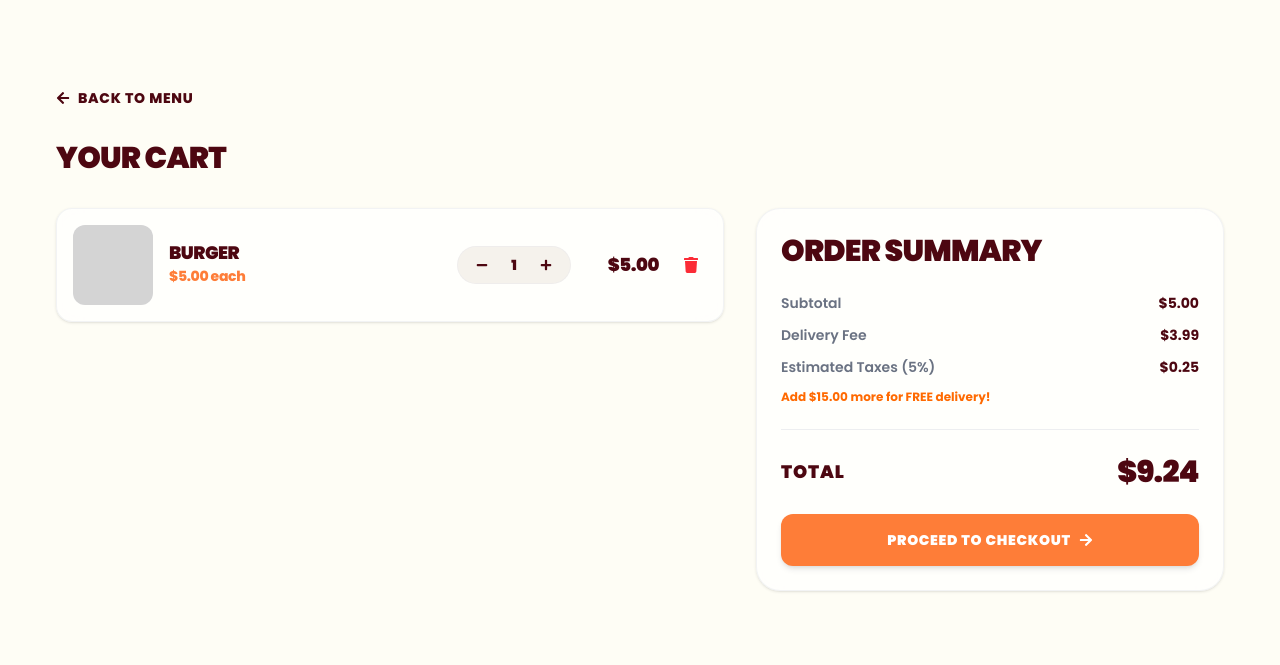
Test: CartPage UI Component › shows error if phone number is not exactly 10 digits
Click the button "Proceed to Checkout" at x=990, y=540, box [781,514,1199,566]
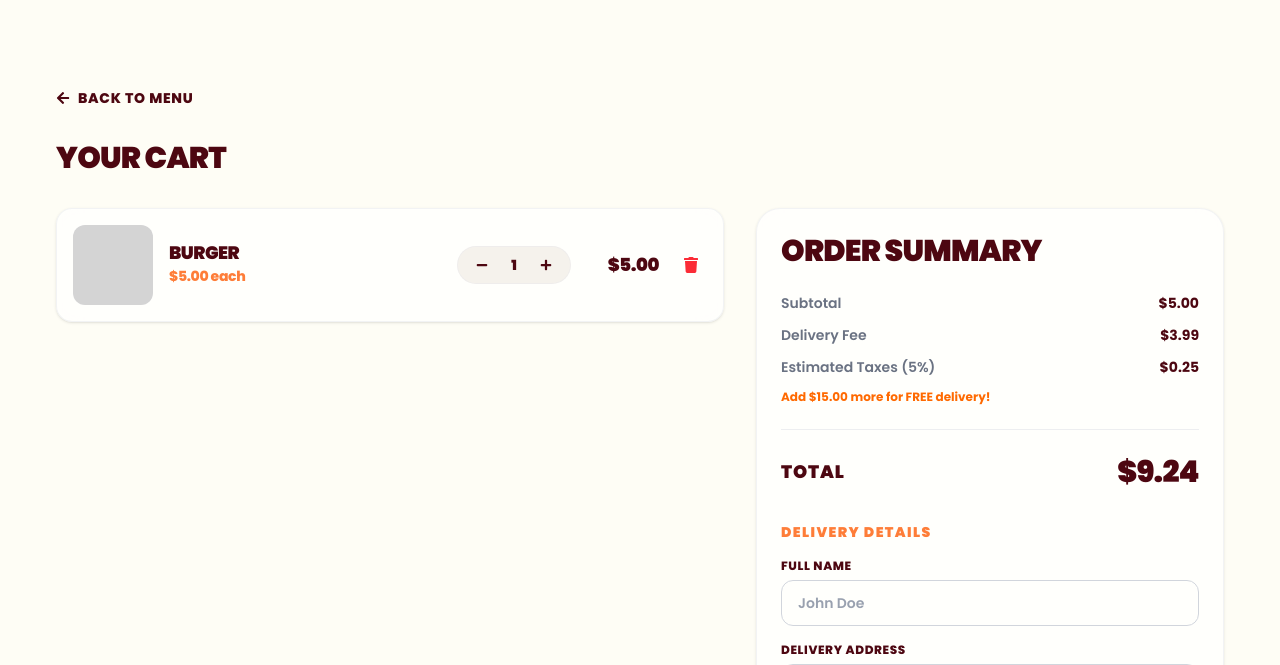
Type "Jane Doe" into the field labelled "Full Name" at x=990, y=603, box [781,580,1199,626]
(page scrolled)
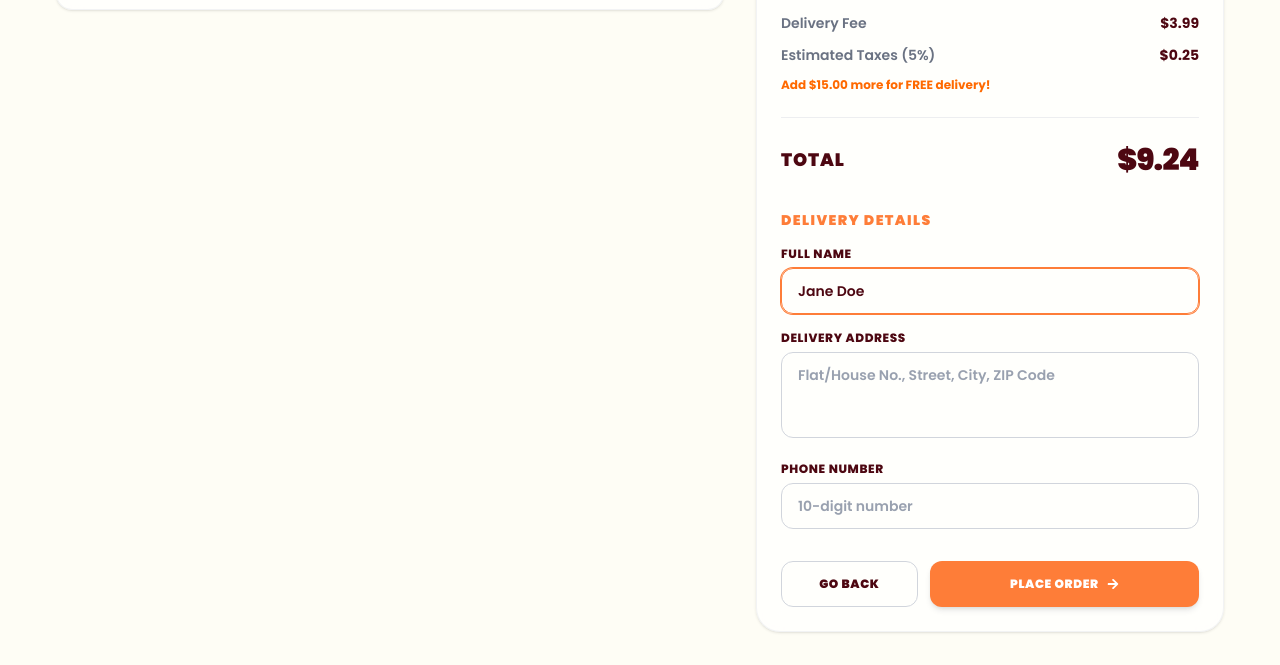
Type "456 Side Street, NY" into the text box labelled "Delivery Address" at x=990, y=395, box [781,352,1199,438]
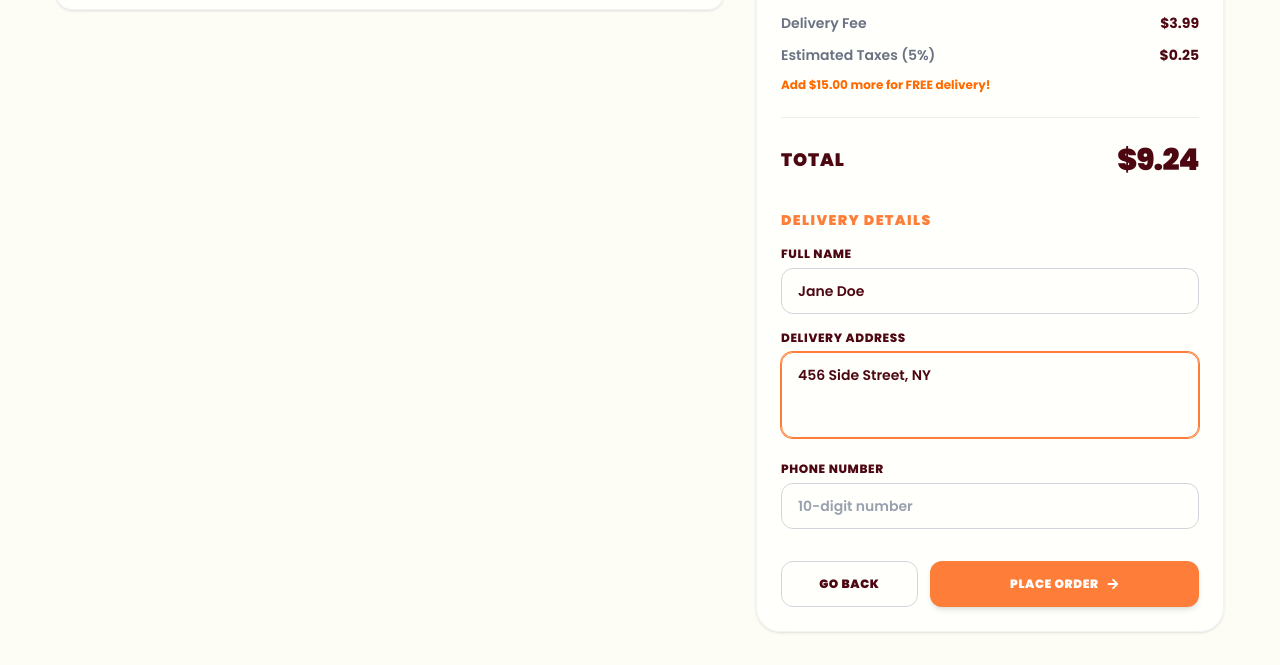
Type "123" into the field labelled "Phone Number" at x=990, y=506, box [781,483,1199,529]
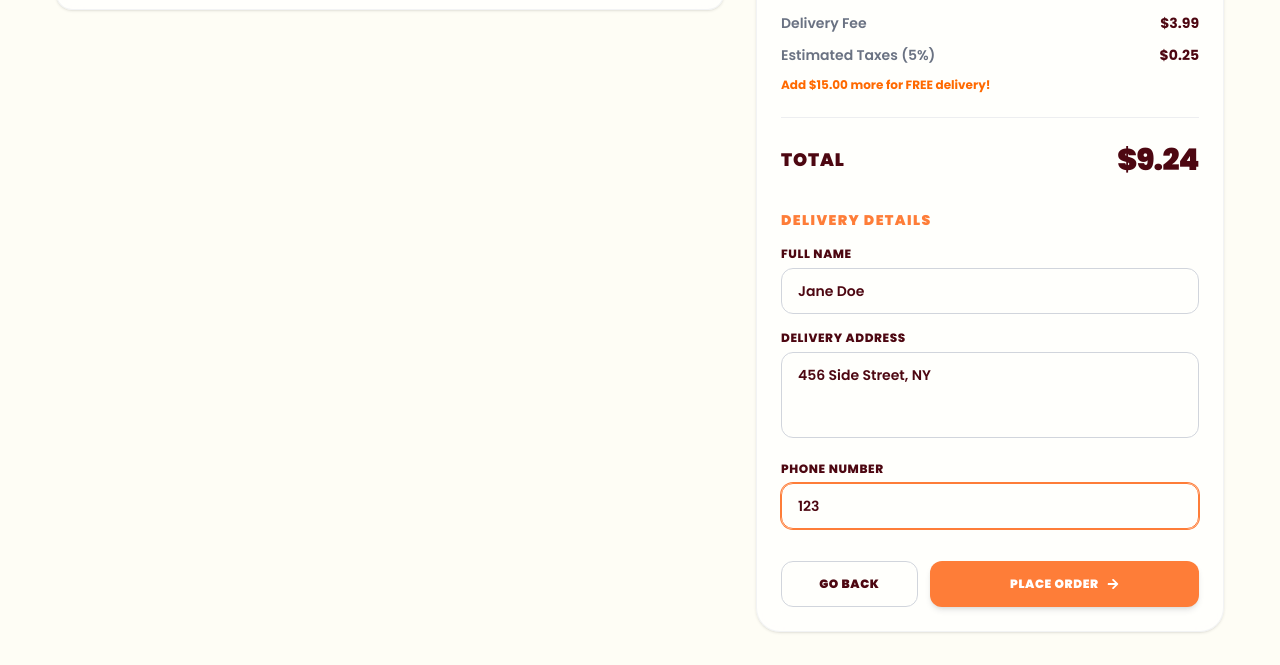
Click the button "Place Order" at x=1064, y=584, box [930,561,1199,607]
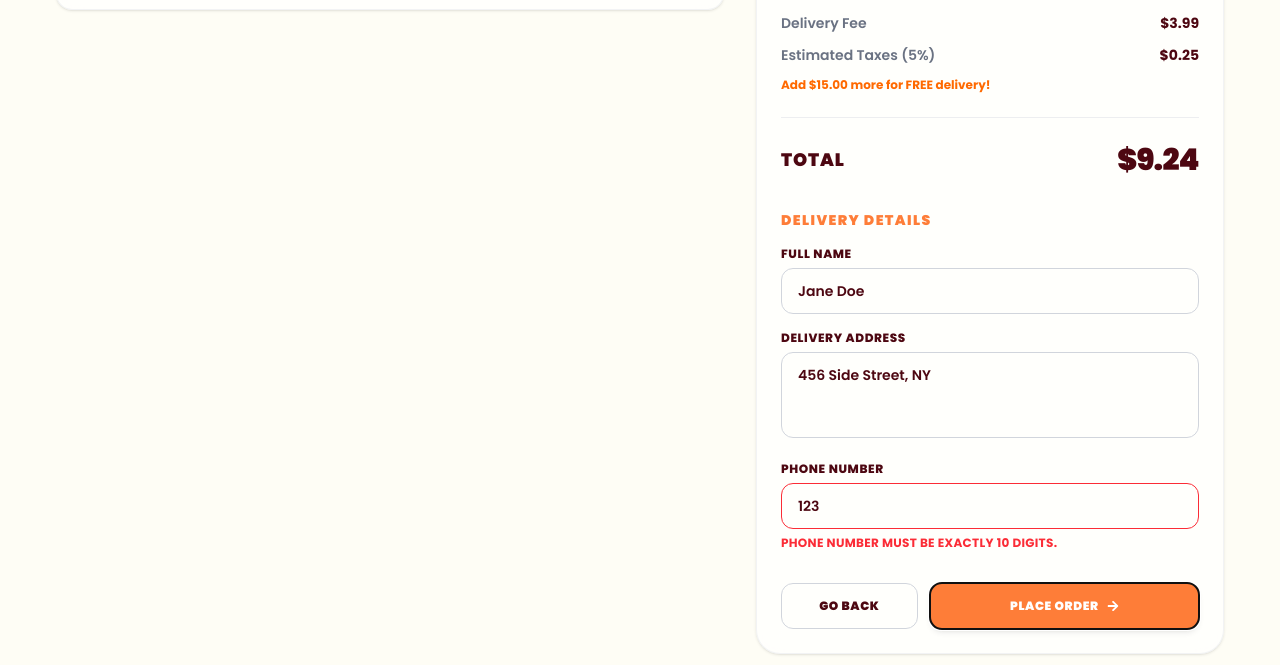
Now the text "Phone number must be exactly 10 digits." is shown, box [781,534,1057,551]
